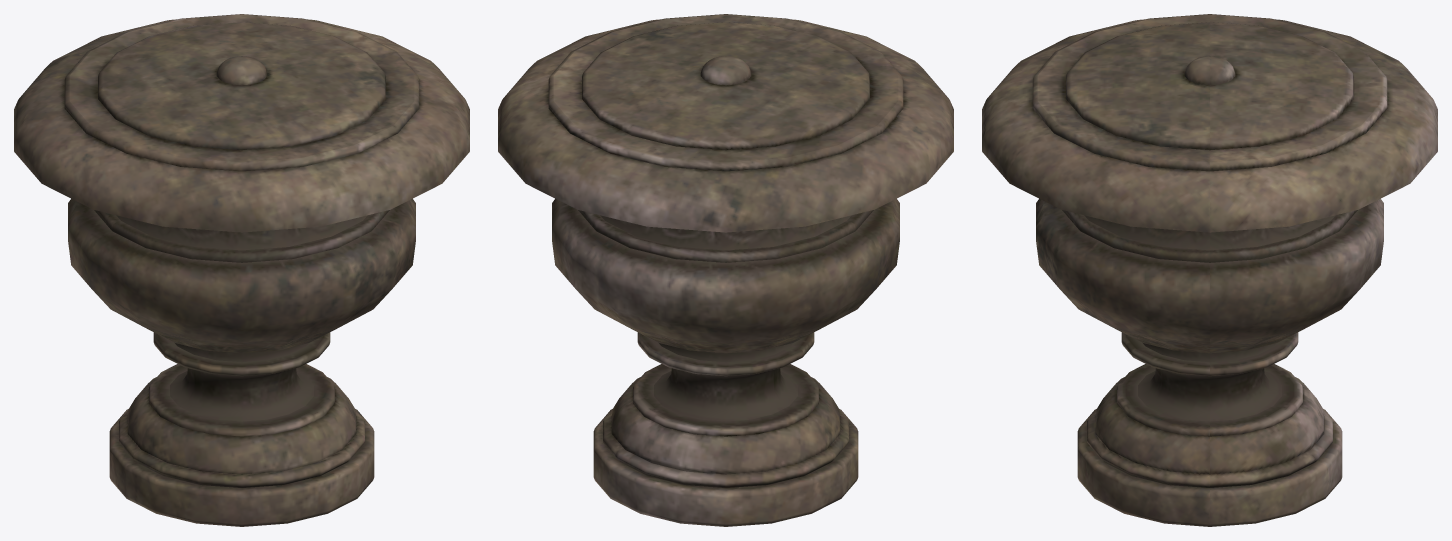
Rendered from SM_urn_04.fbx.
3 views of the same model, side by side, from view 1: azimuth 30°, elevation 25°; view 2: azimuth 150°, elevation 25°; view 3: azimuth 270°, elevation 25° (orthographic).
Visible parts, largest first — view 1: SM_urn_04; view 2: SM_urn_04; view 3: SM_urn_04.
Boxes of the visible parts, x1,y1,x2,y2 form: SM_urn_04: (14, 14, 469, 526); SM_urn_04: (498, 14, 953, 526); SM_urn_04: (982, 14, 1437, 526).
Size of the model in its own units: 41.81 by 40.99 by 41.17.
